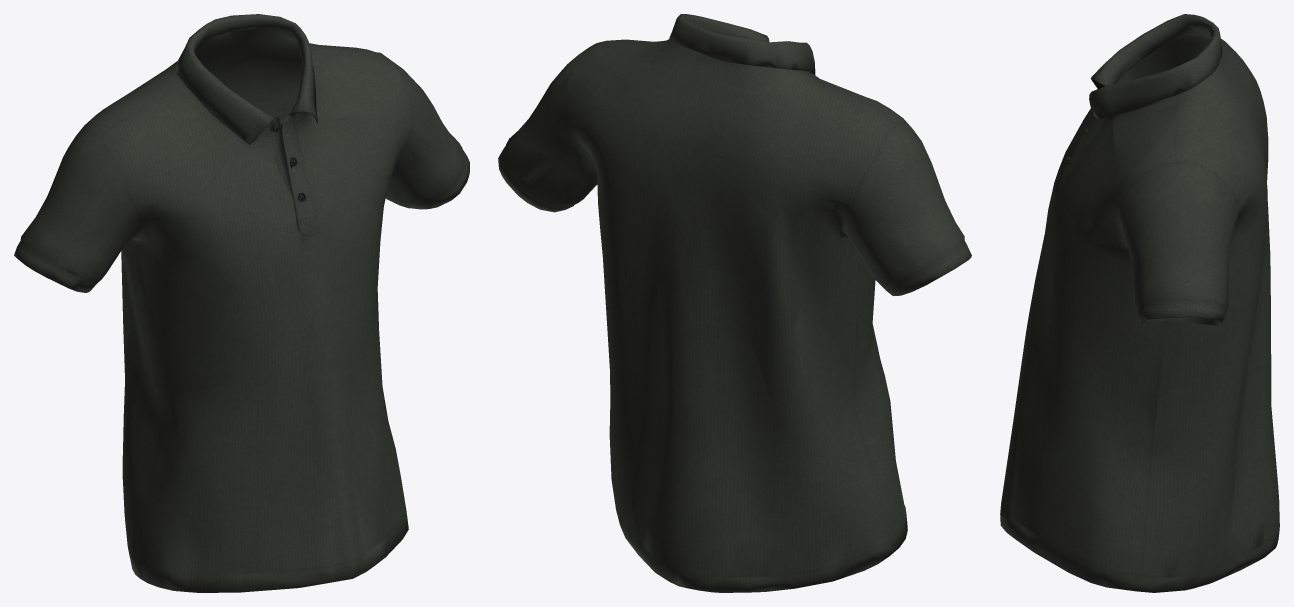
Rendered from ASSET_polo.glb.
3 views of the same model, side by side, from view 1: azimuth 30°, elevation 25°; view 2: azimuth 150°, elevation 25°; view 3: azimuth 270°, elevation 25° (orthographic). The views are drawn at different scales.
Parts seen in each view (by area): view 1: ASSET_polo; view 2: ASSET_polo; view 3: ASSET_polo.
Boxes of the visible parts, left/top/right/bottom form: ASSET_polo: left=14, top=14, right=469, bottom=592; ASSET_polo: left=498, top=14, right=971, bottom=592; ASSET_polo: left=1000, top=14, right=1279, bottom=592.
Size of the model in its own units: 0.6433 by 0.7101 by 0.3535.
Materials: 2 (2 with a texture image).
